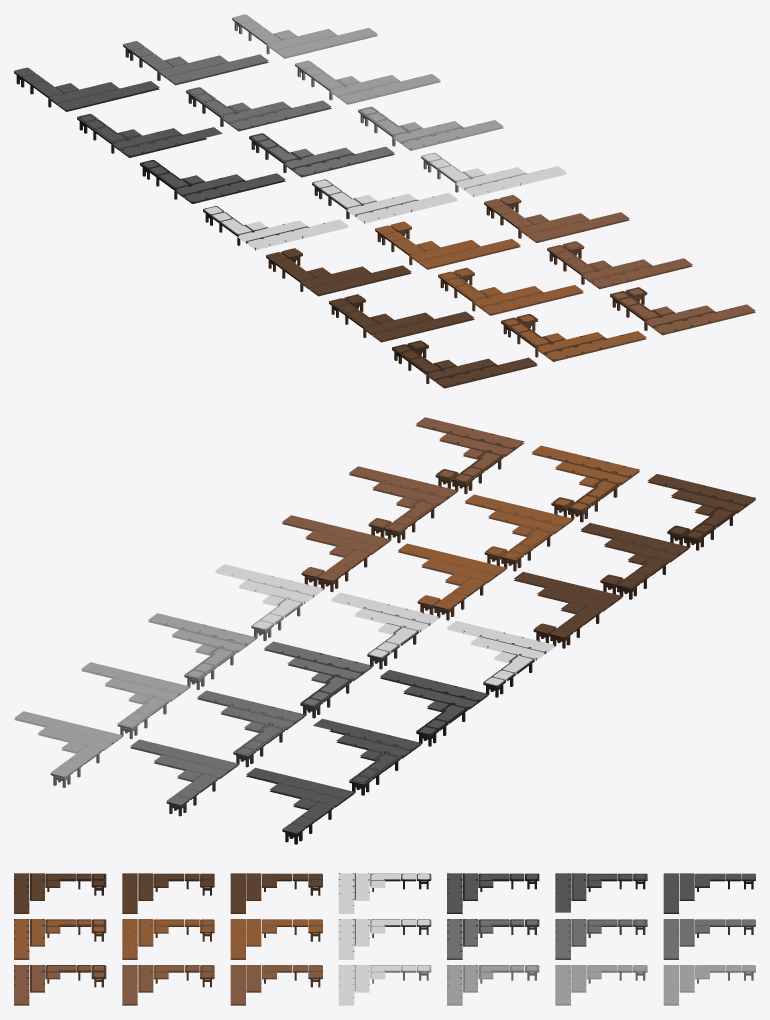
The model's file is tables.fbx.
The picture shows the model from 3 angles, top to bottom: view 1: azimuth 30°, elevation 25°; view 2: azimuth 150°, elevation 25°; view 3: azimuth 270°, elevation 25°; orthographic projection. The views are drawn at different scales.
Bounding box in the file's own units: 4797 × 73.95 × 2000.
